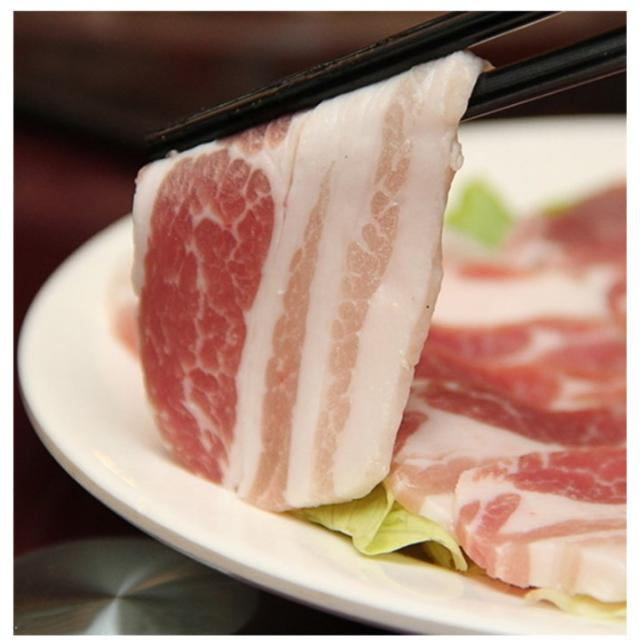pork: (139, 137, 432, 498)
